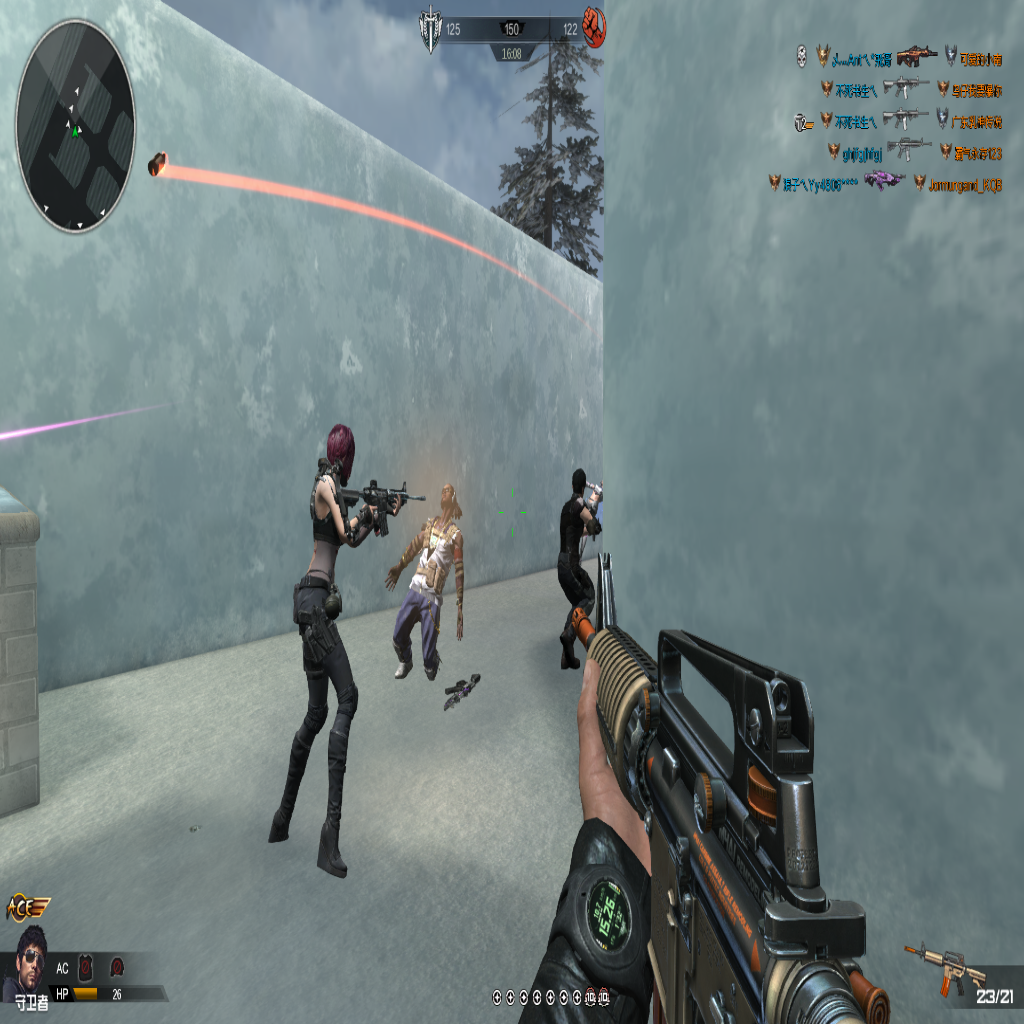ct: (266, 427, 390, 877), (557, 466, 603, 657)
